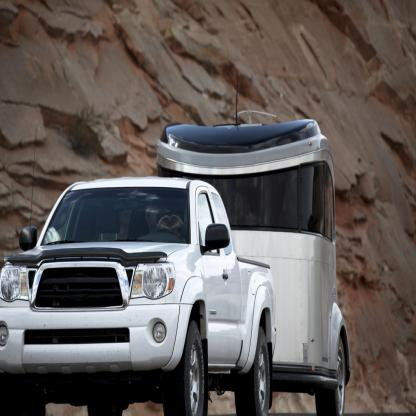Truck: (0, 176, 276, 415)
